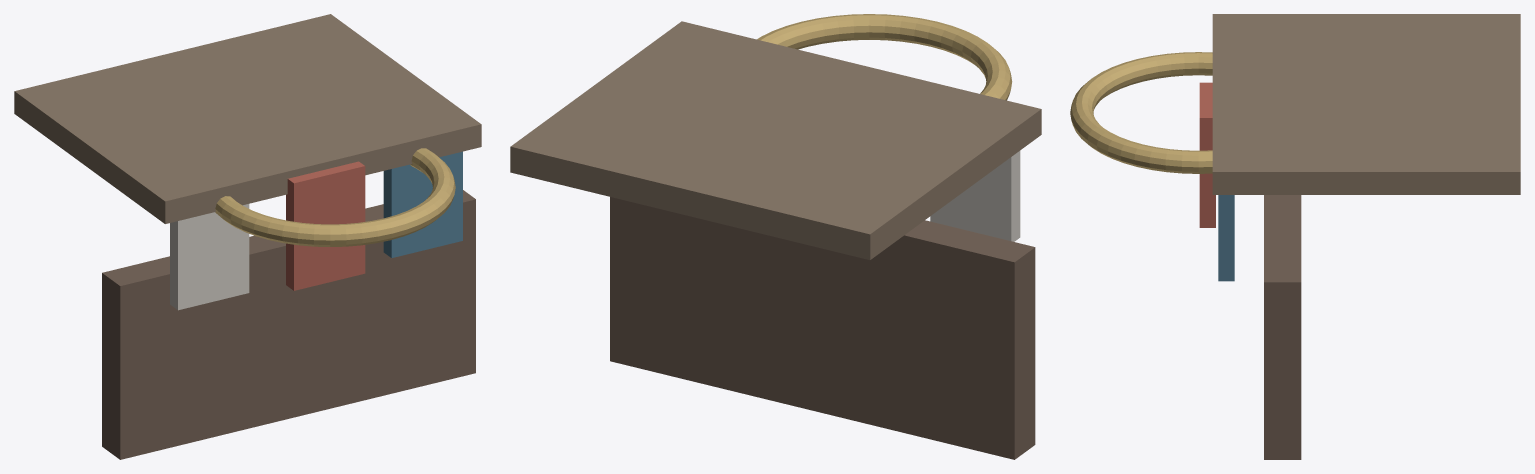
File: sheng_stage.glb
3 renders of one model, left to right at view 1: azimuth 30°, elevation 25°; view 2: azimuth 150°, elevation 25°; view 3: azimuth 270°, elevation 25°, orthographic. The views are drawn at different scales.
Parts seen in each view (by area): view 1: stage_base, backwall, display_1, ring, display_0, display_2; view 2: stage_base, backwall, ring, display_0; view 3: backwall, stage_base, ring, display_1, display_2.
Part boxes in pixels (x1,y1,x2,y2): stage_base: [102, 190, 475, 459]; backwall: [14, 14, 481, 223]; display_1: [286, 161, 365, 290]; ring: [215, 148, 455, 246]; display_0: [170, 204, 249, 310]; display_2: [383, 151, 462, 257]; stage_base: [610, 197, 1035, 459]; backwall: [510, 21, 1041, 259]; ring: [757, 14, 1012, 100]; display_0: [930, 151, 1020, 241]; backwall: [1212, 14, 1520, 194]; stage_base: [1264, 195, 1301, 459]; ring: [1070, 52, 1212, 173]; display_1: [1199, 82, 1215, 227]; display_2: [1218, 195, 1234, 281].
Size of the model in its own units: 0.9 by 0.6575 by 0.965.
